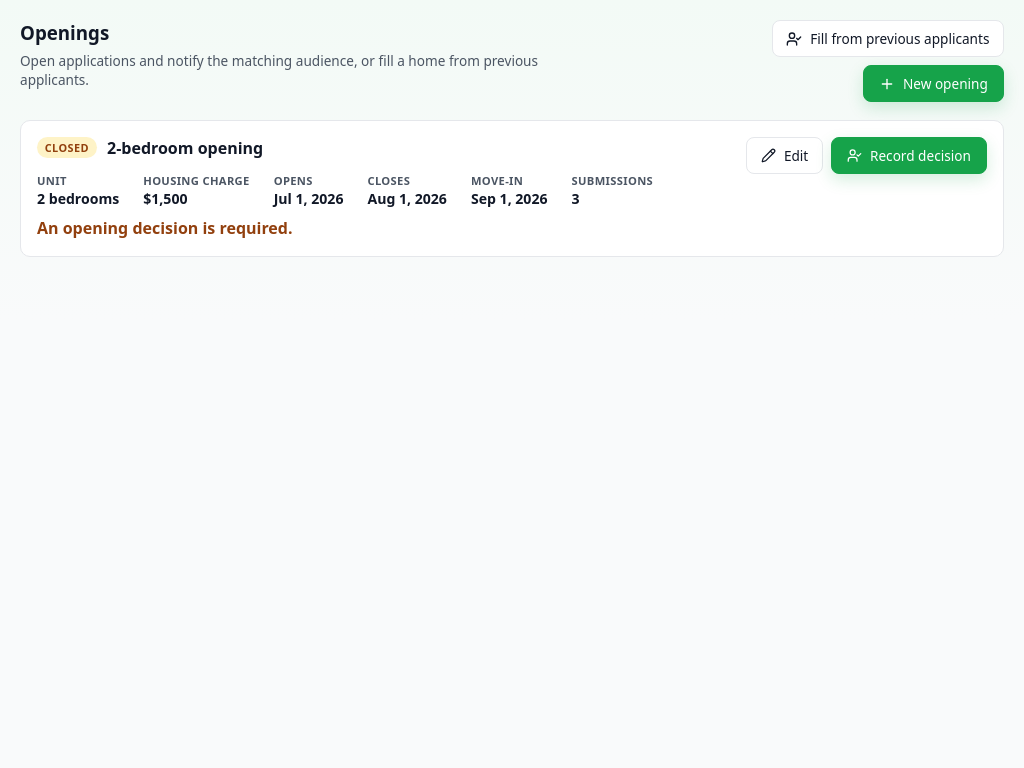
Scenario: OpeningsPanel modes › updates an existing opening without publishing or reviewing an audience
The width and height of the screenshot is (1024, 768).
Click the button "Edit".
click(785, 155)  # box [746,137,823,174]
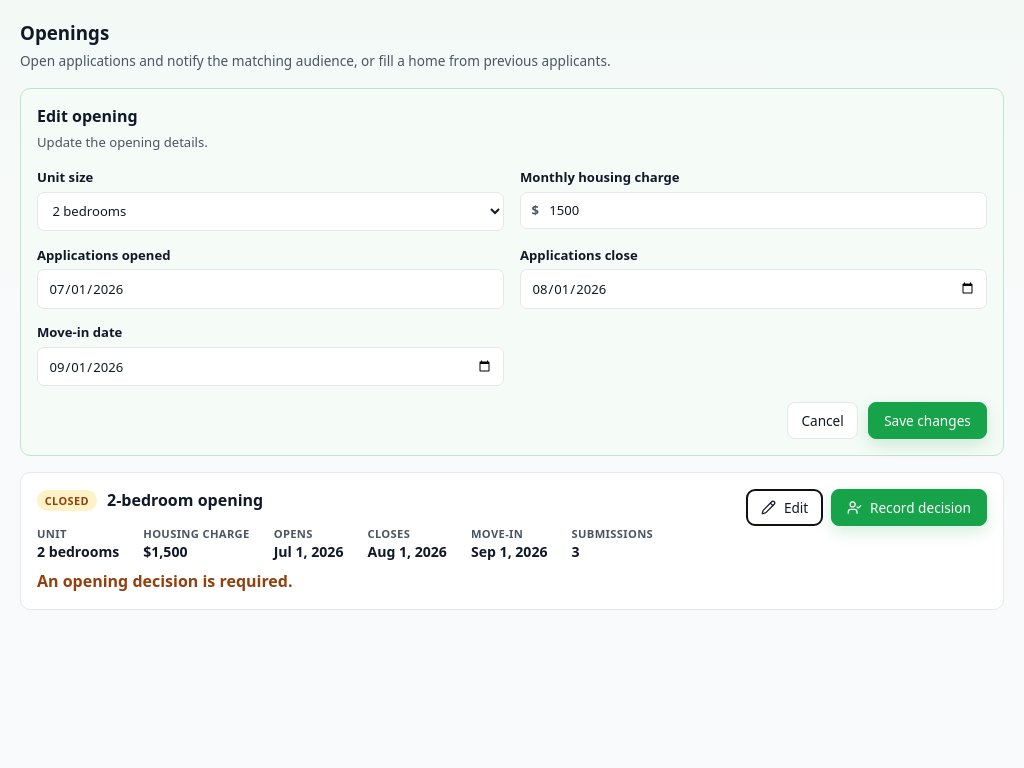
Type "2026-10-01" into the date field labelled "Move-in date".
click(270, 367); type("2026-10-01")  # box [37,347,504,386]
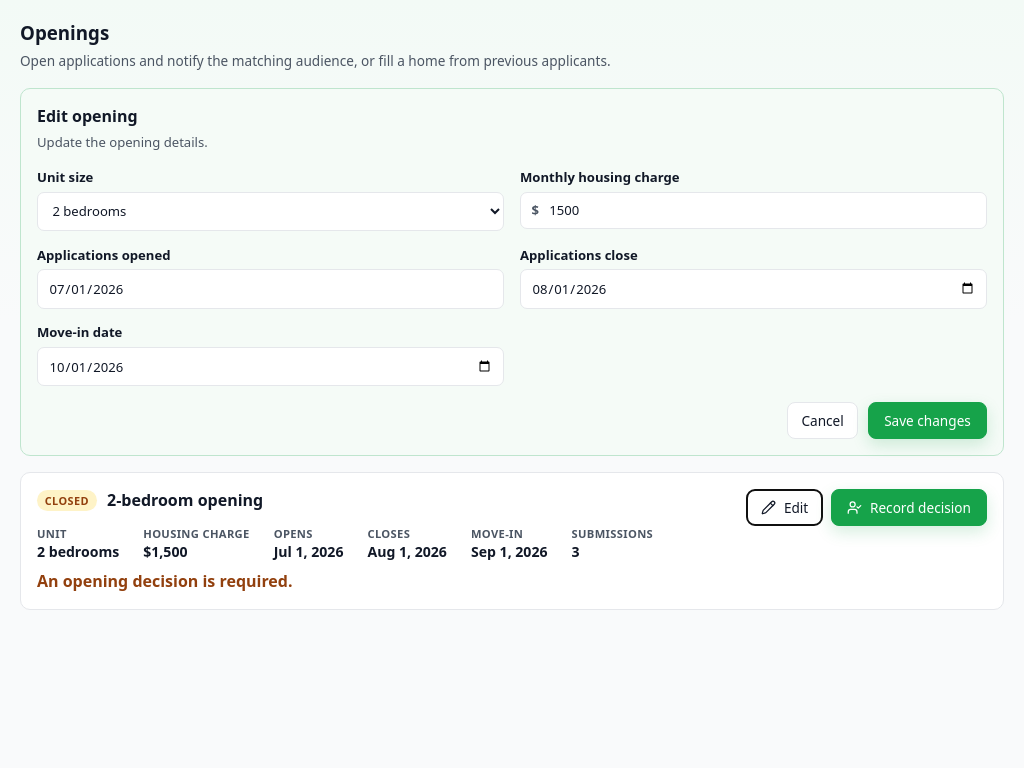
Click the button "Save changes".
click(927, 421)  # box [868,402,987,439]
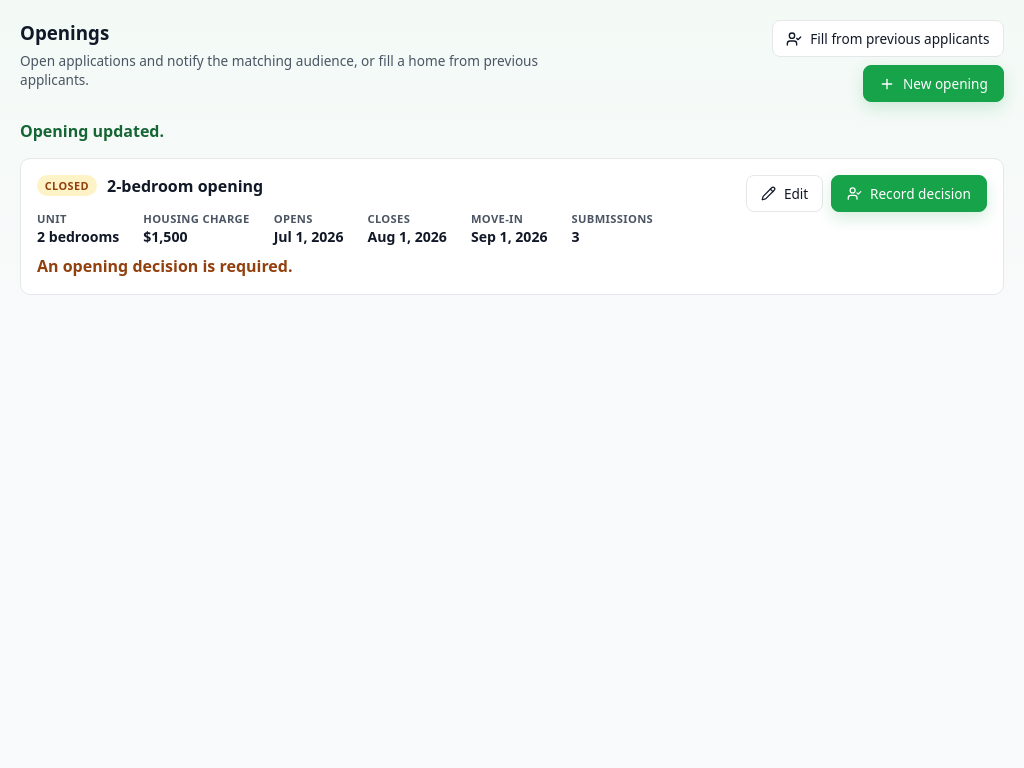
Check: the text "Opening updated." is shown, box [20,120,164,142]
